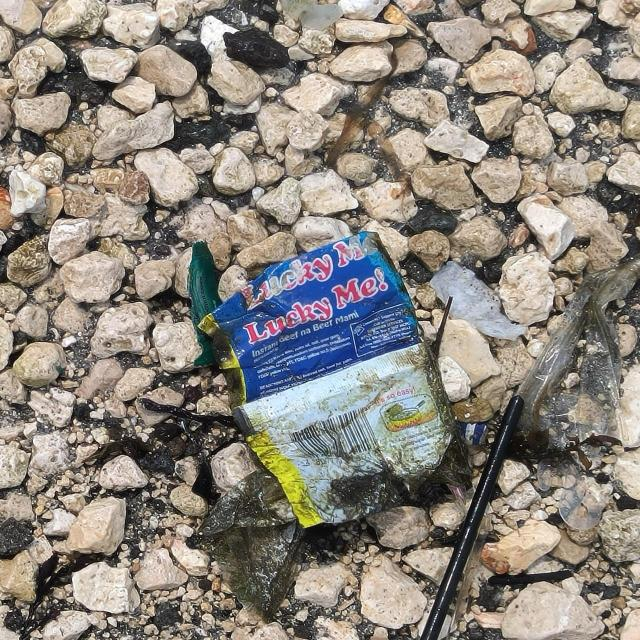plastic_waste: (190, 232, 476, 528)
